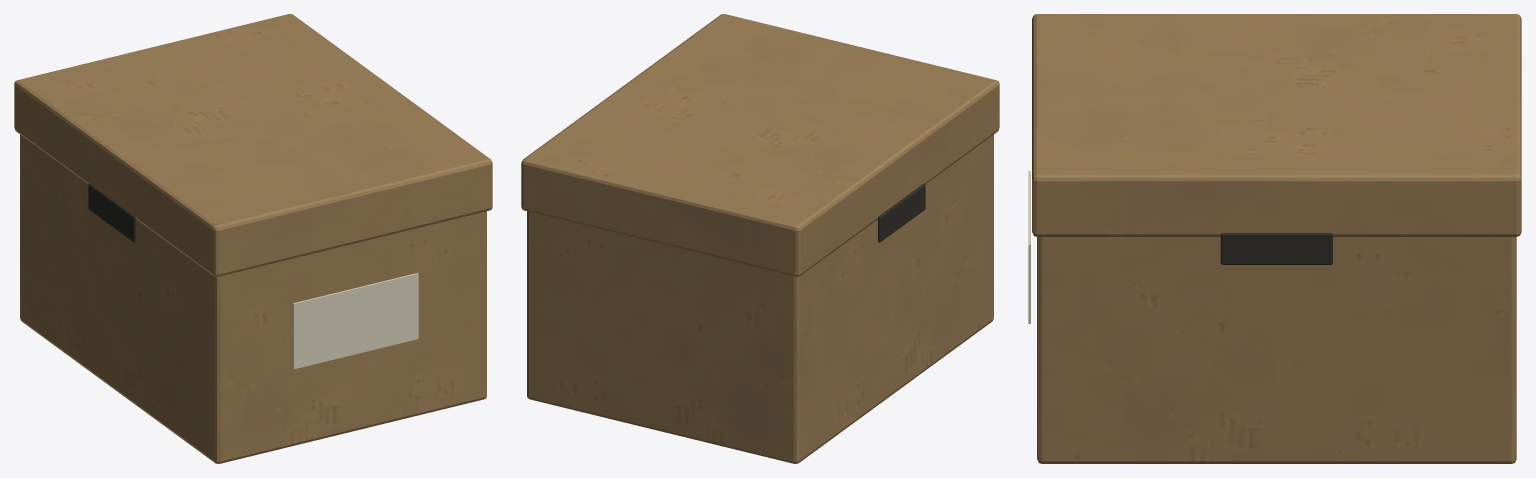
The picture shows the model from 3 angles, left to right: view 1: azimuth 30°, elevation 25°; view 2: azimuth 150°, elevation 25°; view 3: azimuth 270°, elevation 25°; orthographic projection. The views are drawn at different scales.
Visible parts, largest first — view 1: file_box; view 2: file_box; view 3: file_box.
Part boxes in pixels (bbox=[...]): file_box: bbox=[14, 14, 492, 463]; file_box: bbox=[521, 14, 999, 463]; file_box: bbox=[1028, 14, 1521, 463].
Bounding box in the file's own units: 0.32 × 0.258 × 0.396.
Materials: 3 (3 with a texture image).
